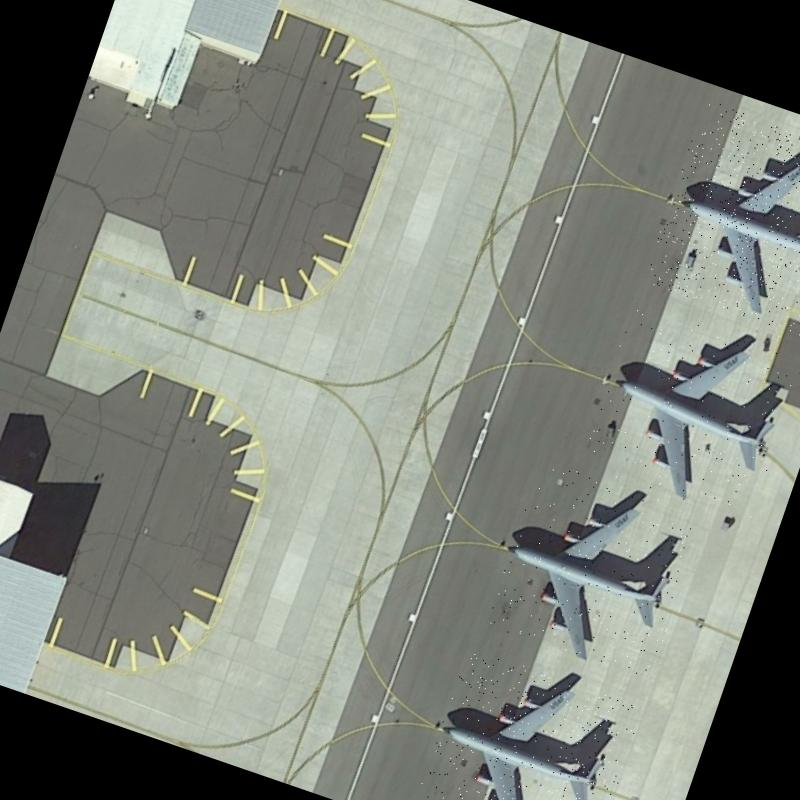A14: (578, 303, 800, 526), (484, 460, 707, 682), (643, 99, 800, 346), (413, 646, 645, 800)
